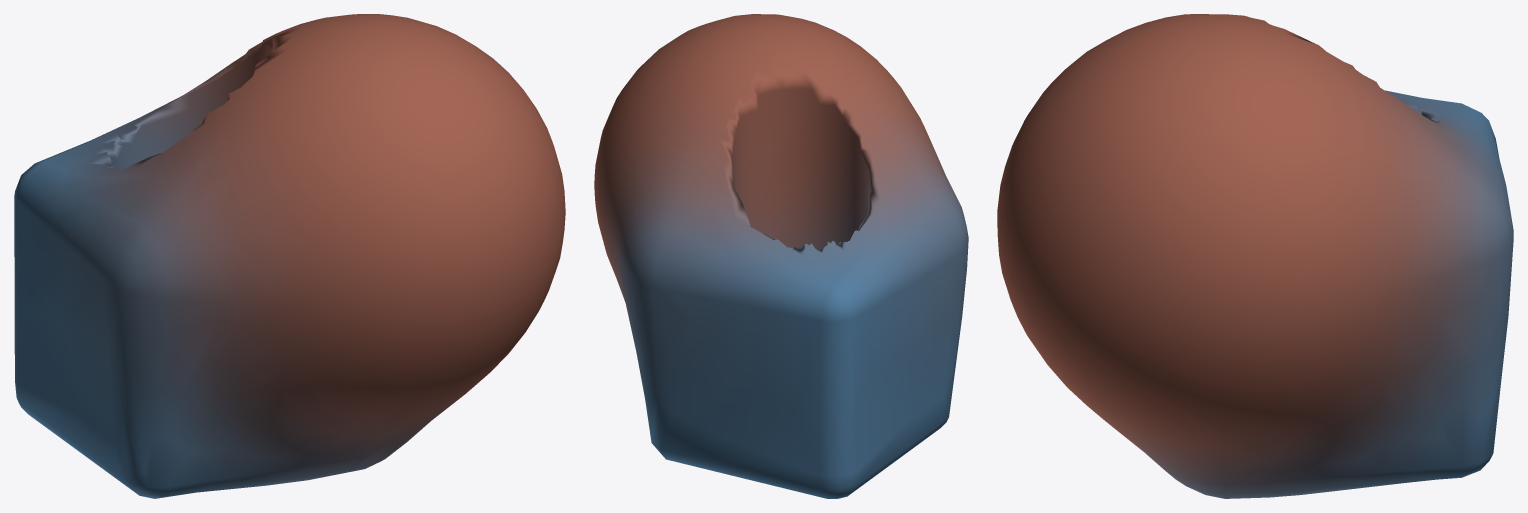
The picture shows the model from 3 angles, left to right: view 1: azimuth 30°, elevation 25°; view 2: azimuth 150°, elevation 25°; view 3: azimuth 270°, elevation 25°; orthographic projection. The views are drawn at different scales.
Parts seen in each view (by area): view 1: claycore; view 2: claycore; view 3: claycore.
Part boxes in pixels (x1=…): claycore: x1=14, y1=14, x2=565, y2=498; claycore: x1=594, y1=14, x2=968, y2=498; claycore: x1=997, y1=14, x2=1513, y2=498.
Bounding box in the file's own units: 2.07 × 2.07 × 2.07.
